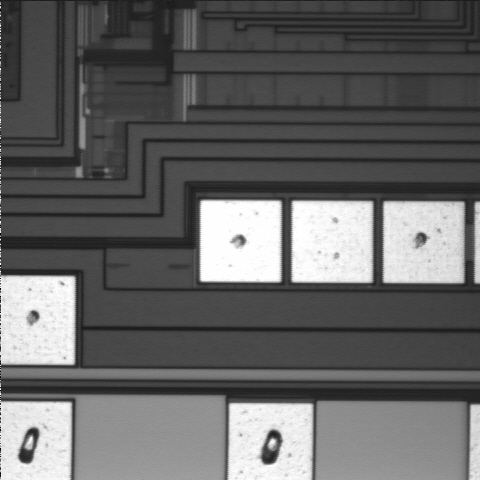pad: (200, 200, 281, 282), (292, 201, 373, 283), (384, 202, 464, 283)
